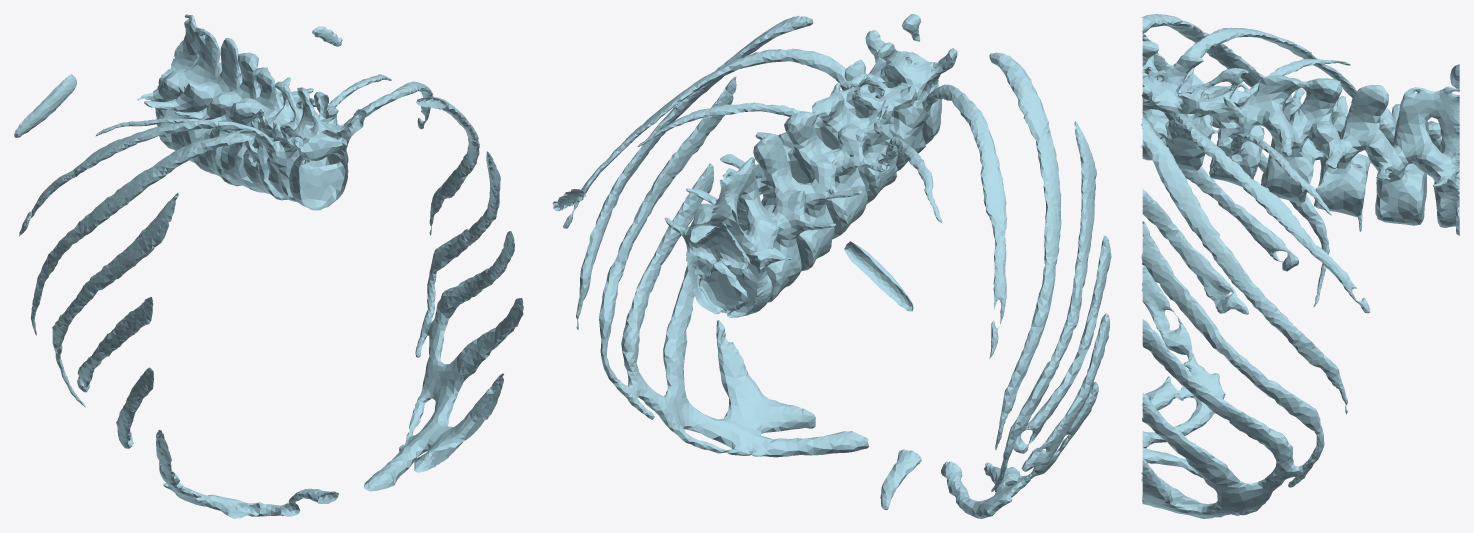
The model's file is bone.obj.
The picture shows the model from 3 angles, left to right: view 1: azimuth 30°, elevation 25°; view 2: azimuth 150°, elevation 25°; view 3: azimuth 270°, elevation 25°; orthographic projection. The views are drawn at different scales.
Parts seen in each view (by area): view 1: grp1; view 2: grp1; view 3: grp1.
Boxes of the visible parts, x1,y1,x2,y2 form: grp1: (14, 14, 523, 518); grp1: (552, 14, 1111, 518); grp1: (1140, 14, 1459, 518).
Bounding box in the file's own units: 286 × 285 × 188.
